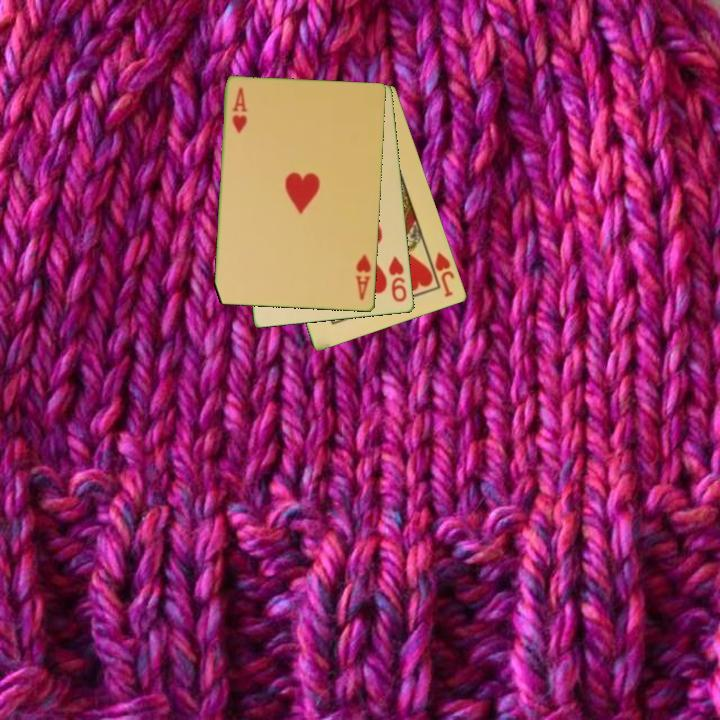9h: (385, 253, 410, 305)
Ah: (353, 251, 374, 303), (229, 84, 249, 136)
Jh: (424, 248, 458, 300)
